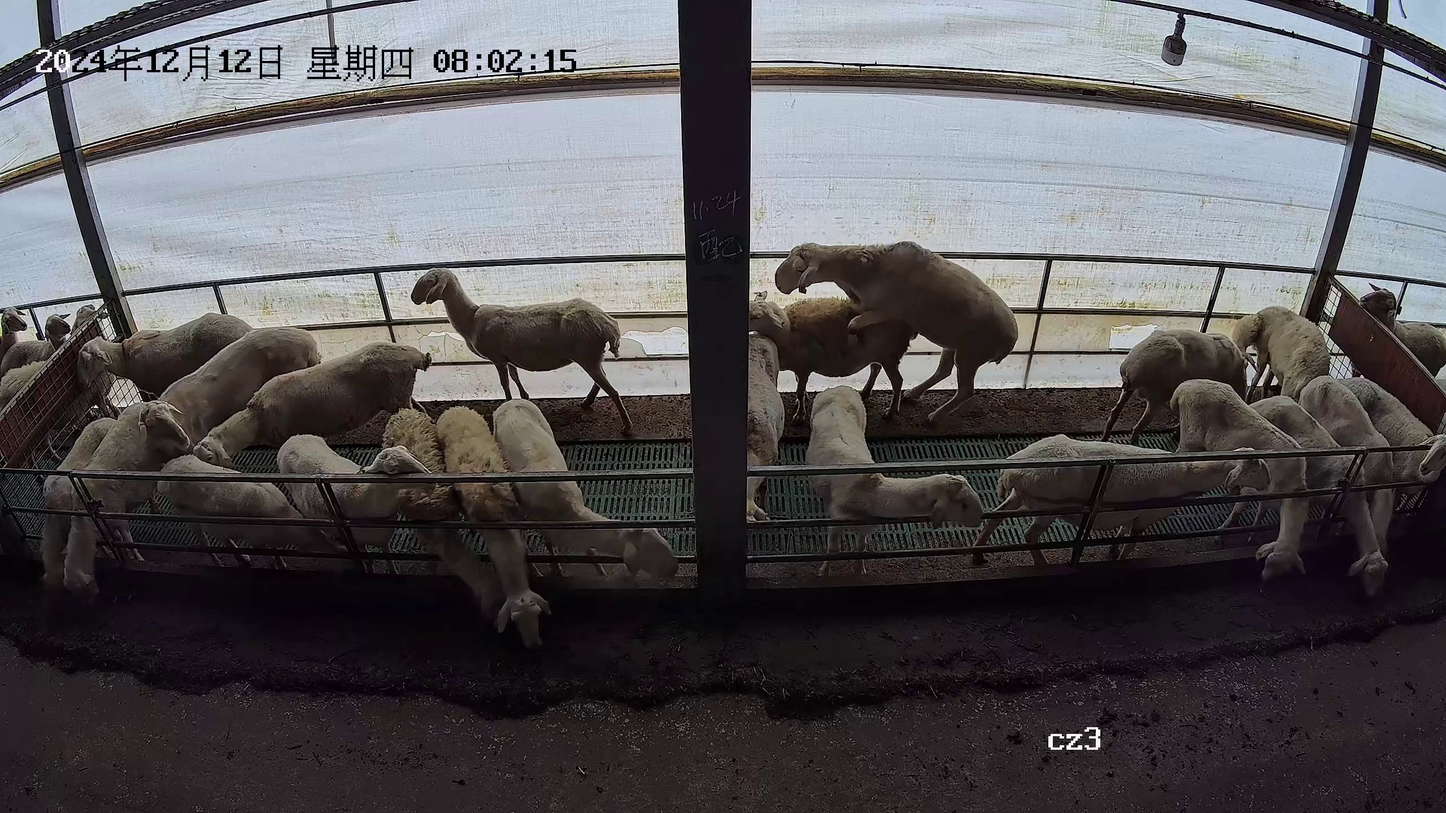Smounting: (746, 238, 1021, 423)
mounted: (750, 288, 918, 418)
